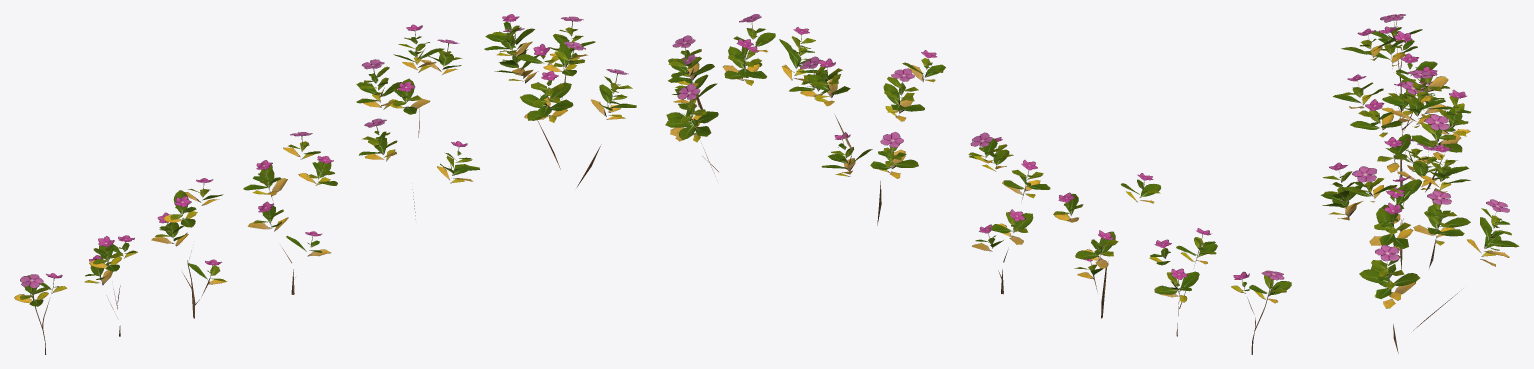
The model's file is periwinkle_plant.glb.
3 renders of one model, left to right at view 1: azimuth 30°, elevation 25°; view 2: azimuth 150°, elevation 25°; view 3: azimuth 270°, elevation 25°, orthographic. The views are drawn at different scales.
Visible parts, largest first — view 1: periwinkle_plant_01_LOD0, periwinkle_plant_02_LOD0, periwinkle_plant_03_LOD0, periwinkle_plant_04_LOD0, periwinkle_plant_05_LOD0, periwinkle_plant_06_LOD0; view 2: periwinkle_plant_01_LOD0, periwinkle_plant_02_LOD0, periwinkle_plant_03_LOD0, periwinkle_plant_04_LOD0, periwinkle_plant_05_LOD0, periwinkle_plant_06_LOD0; view 3: periwinkle_plant_01_LOD0, periwinkle_plant_02_LOD0, periwinkle_plant_03_LOD0, periwinkle_plant_04_LOD0, periwinkle_plant_05_LOD0, periwinkle_plant_06_LOD0.
Part boxes in pixels (x1,y1,x2,y2): periwinkle_plant_01_LOD0: (484, 14, 636, 186); periwinkle_plant_02_LOD0: (356, 24, 479, 219); periwinkle_plant_03_LOD0: (243, 132, 337, 294); periwinkle_plant_04_LOD0: (151, 178, 227, 318); periwinkle_plant_05_LOD0: (84, 235, 137, 336); periwinkle_plant_06_LOD0: (14, 273, 66, 354); periwinkle_plant_01_LOD0: (665, 14, 823, 176); periwinkle_plant_02_LOD0: (789, 50, 945, 225); periwinkle_plant_03_LOD0: (968, 132, 1050, 294); periwinkle_plant_04_LOD0: (1053, 173, 1160, 318); periwinkle_plant_05_LOD0: (1149, 228, 1217, 336); periwinkle_plant_06_LOD0: (1231, 270, 1291, 354); periwinkle_plant_01_LOD0: (1320, 144, 1519, 353); periwinkle_plant_02_LOD0: (1333, 70, 1471, 269); periwinkle_plant_03_LOD0: (1350, 81, 1434, 231); periwinkle_plant_04_LOD0: (1341, 28, 1452, 186); periwinkle_plant_05_LOD0: (1365, 26, 1449, 134); periwinkle_plant_06_LOD0: (1371, 14, 1422, 111).
Bounding box in the file's own units: 1.24 × 0.4107 × 0.3207.
Materials: 1 (1 with a texture image).
